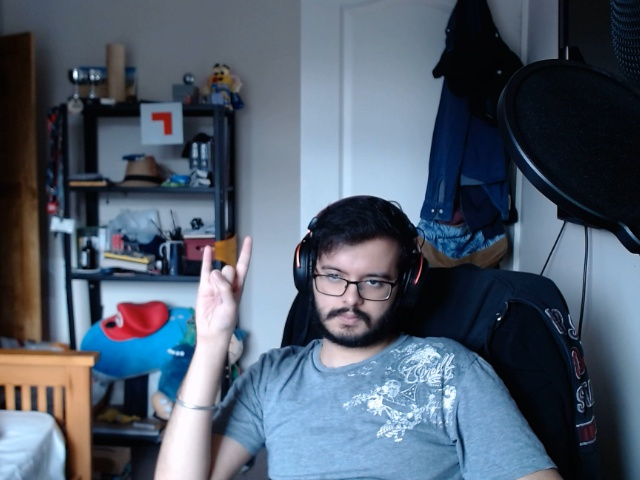Rock on: (170, 229, 260, 361)
